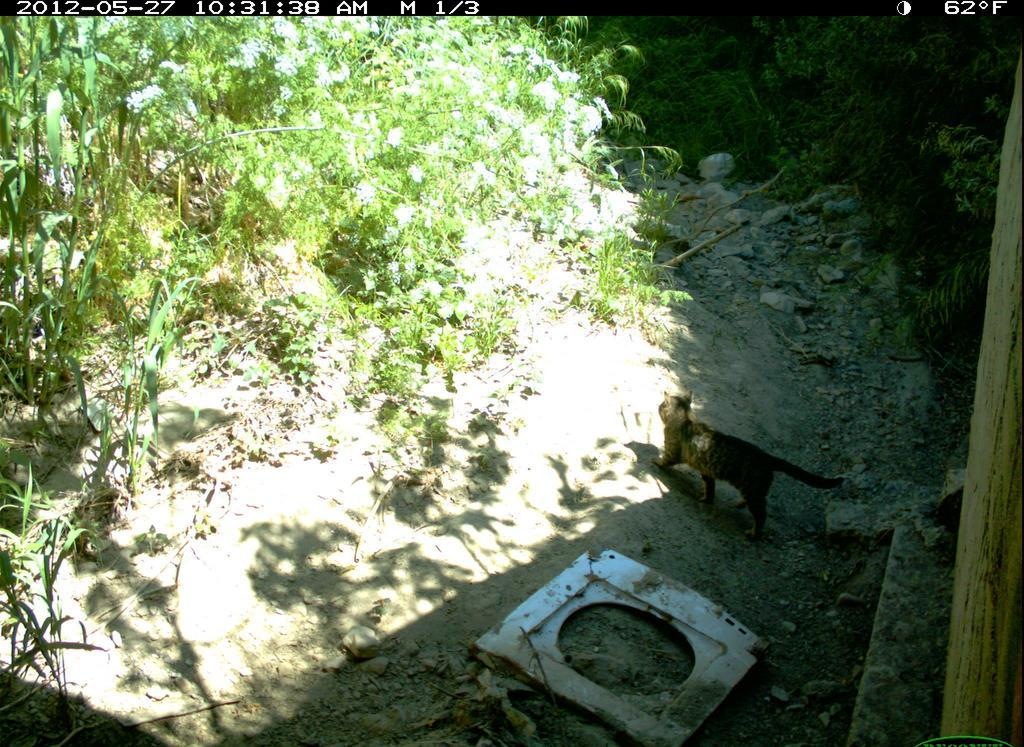cat: (648, 381, 843, 532)
